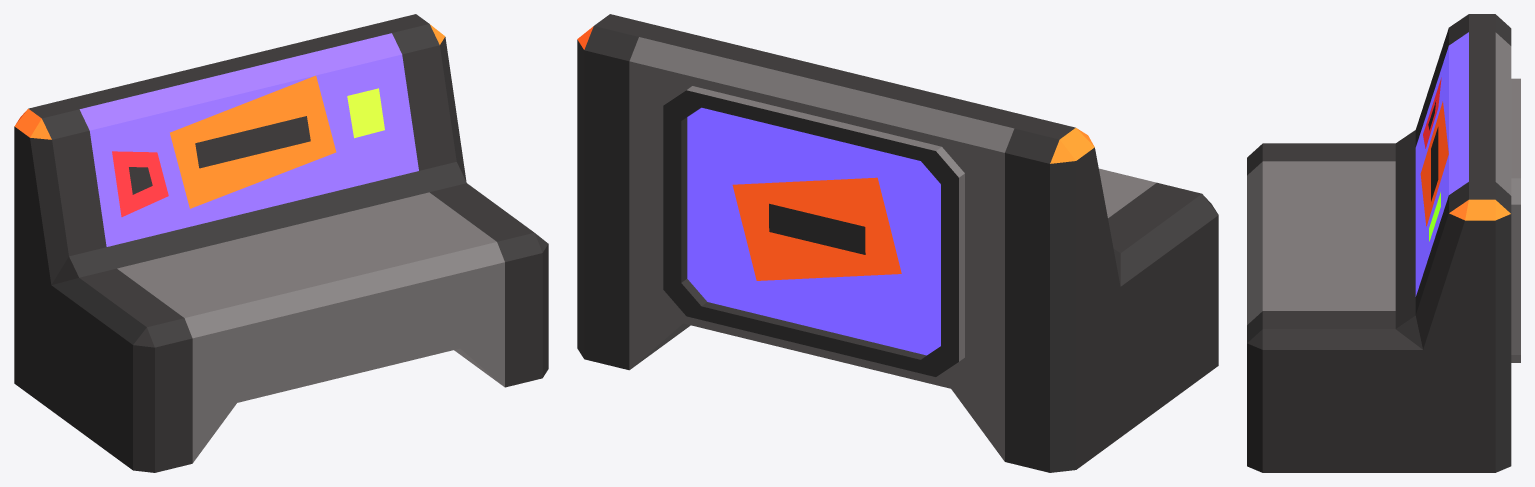
File: scifi_scifi-bench-a.fbx
The picture shows the model from 3 angles, left to right: view 1: azimuth 30°, elevation 25°; view 2: azimuth 150°, elevation 25°; view 3: azimuth 270°, elevation 25°; orthographic projection. The views are drawn at different scales.
Visible parts, largest first — view 1: scifi_scifi_bench_a; view 2: scifi_scifi_bench_a; view 3: scifi_scifi_bench_a.
Part boxes in pixels (x1,y1,x2,y2): scifi_scifi_bench_a: (14, 14, 548, 472); scifi_scifi_bench_a: (577, 14, 1218, 472); scifi_scifi_bench_a: (1247, 14, 1520, 472).
Bounding box in the file's own units: 200 × 125 × 116.
